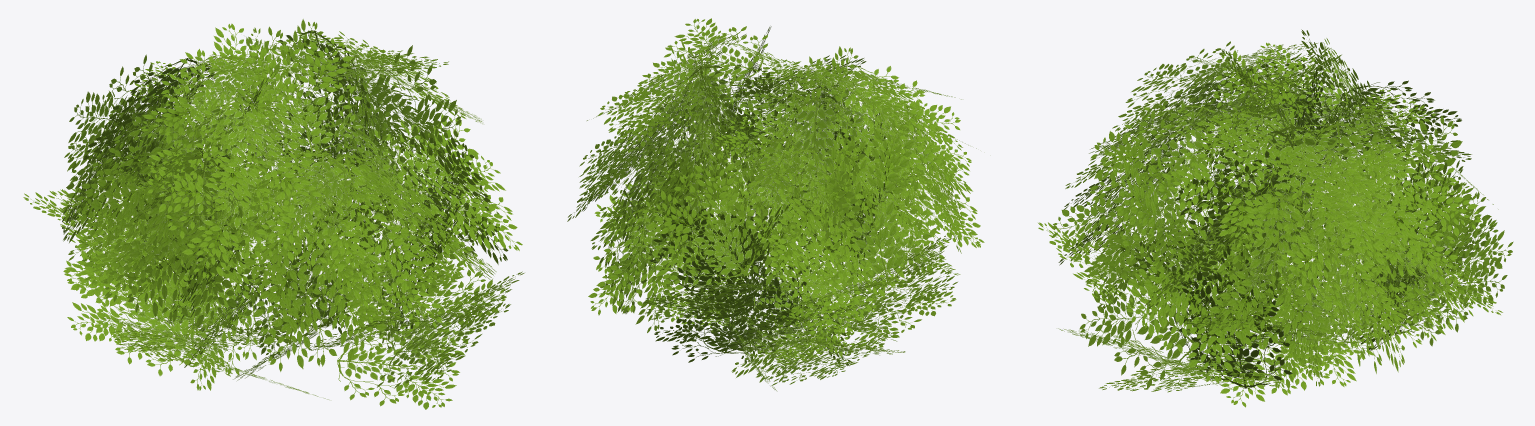
File: cliff_shrub_for_terrain (1).glb
3 renders of one model, left to right at view 1: azimuth 30°, elevation 25°; view 2: azimuth 150°, elevation 25°; view 3: azimuth 270°, elevation 25°, orthographic. The views are drawn at different scales.
Parts seen in each view (by area): view 1: leaves; view 2: leaves; view 3: leaves.
Boxes of the visible parts, x1,y1,x2,y2 form: leaves: (23, 19, 524, 409); leaves: (567, 18, 984, 391); leaves: (1038, 29, 1513, 407).
Bounding box in the file's own units: 1.53 × 1.26 × 1.68.
Materials: 1 (1 with a texture image).
